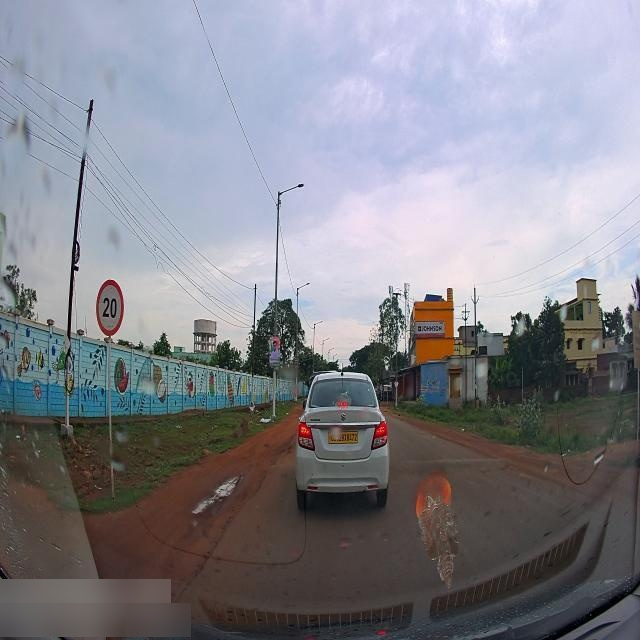pothole: (214, 476, 244, 499), (193, 492, 212, 520)
